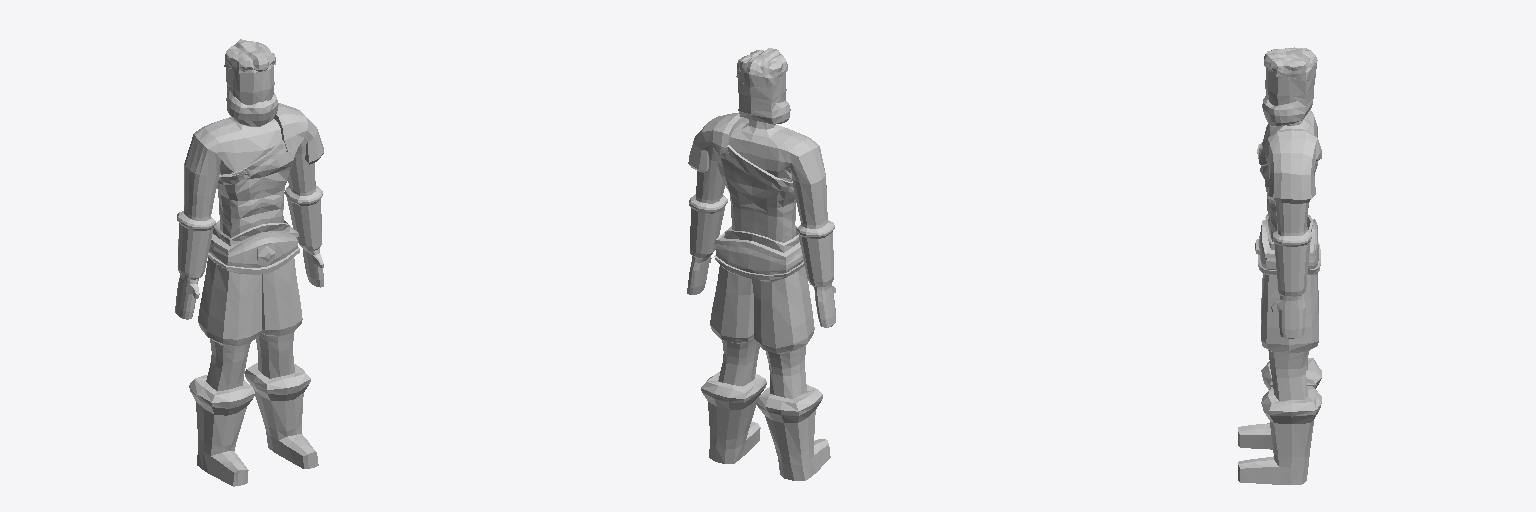
Rendered from WithoutAxeObj.obj.
The picture shows the model from 3 angles: view 1: azimuth 30°, elevation 25°; view 2: azimuth 150°, elevation 25°; view 3: azimuth 270°, elevation 25°; orthographic projection.
Parts seen in each view (by area): view 1: body_Cube.005; view 2: body_Cube.005; view 3: body_Cube.005.
Boxes of the visible parts, box(x1,y1,x2,y2) form: body_Cube.005: box(175, 39, 323, 486); body_Cube.005: box(687, 48, 835, 480); body_Cube.005: box(1238, 47, 1321, 484).
Bounding box in the file's own units: 0.7513 × 2.07 × 0.3841.